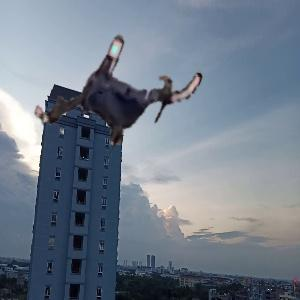drone: (35, 15, 201, 181)
